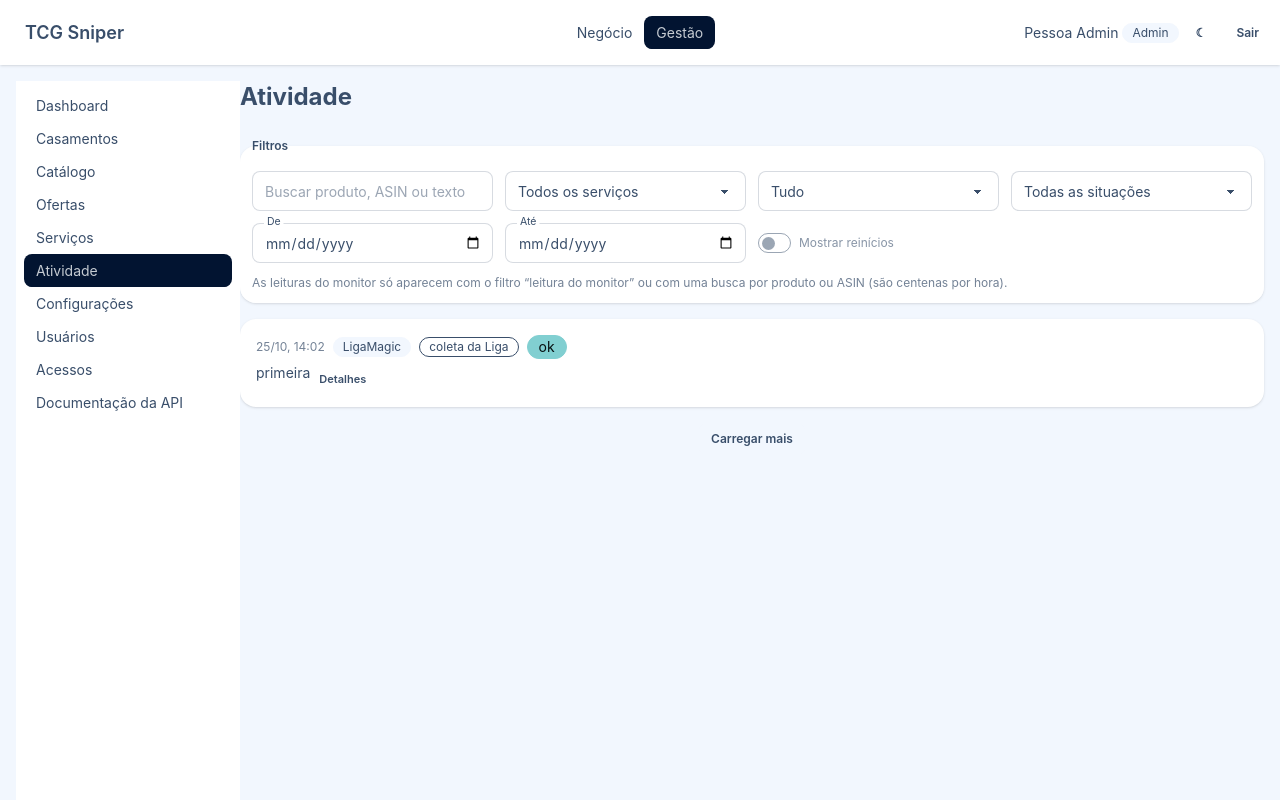
Test: Atividade › Carregar mais usa o cursor e acrescenta sem perder as linhas
Expected: the text "primeira" is shown, [256,363,310,383]
Click the button "Carregar mais": (752, 439) [698,423,806,455]
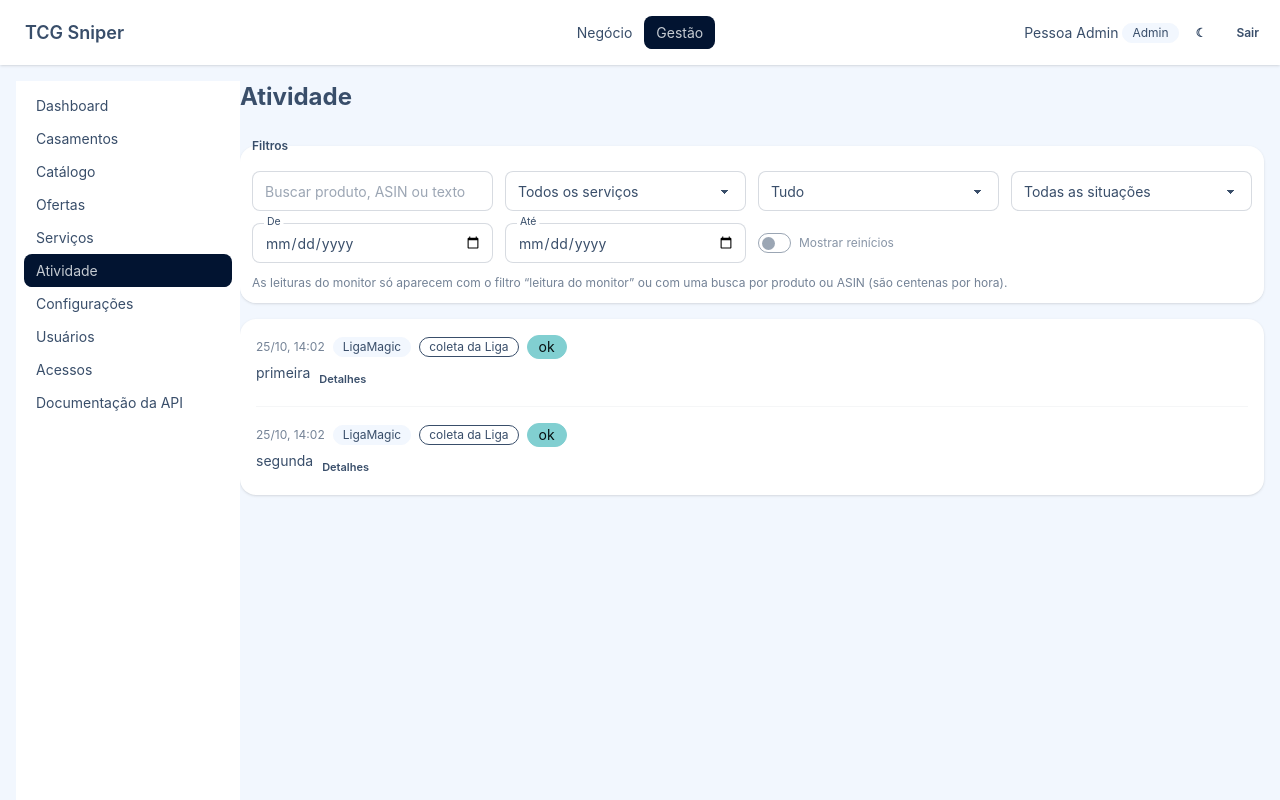
Expected: the text "primeira" is shown, [256,363,310,383]
Result: the text "segunda" is shown at [256,451,313,471]
Result: the button "Carregar mais" is gone
